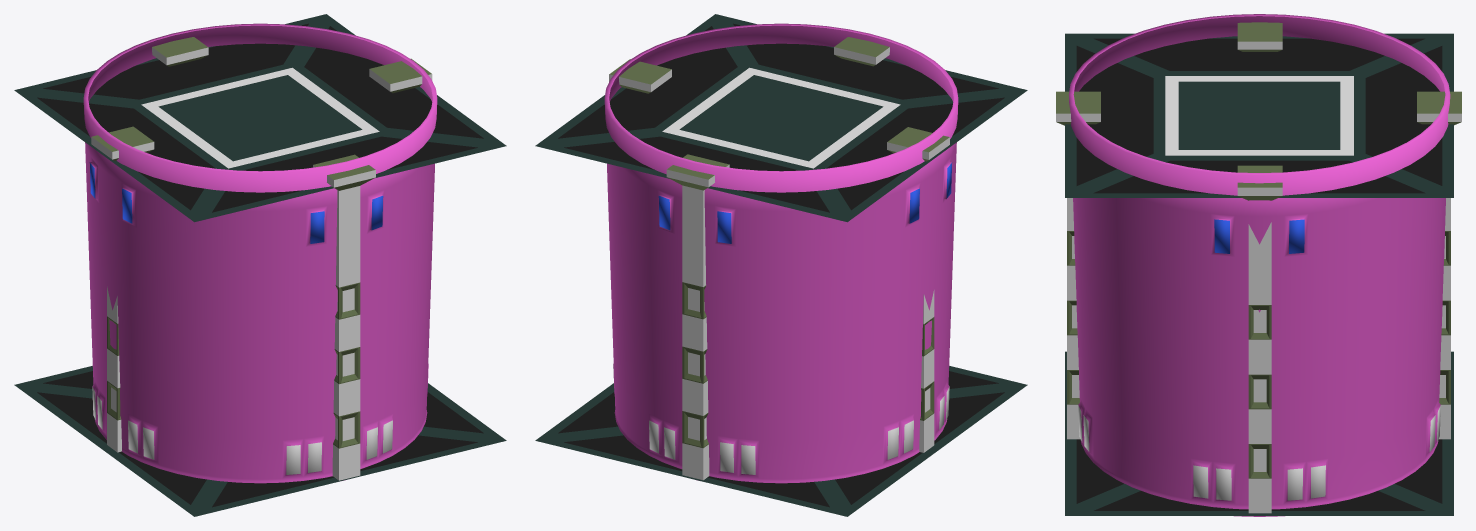
File: Salao.fbx
The picture shows the model from 3 angles, left to right: view 1: azimuth 30°, elevation 25°; view 2: azimuth 150°, elevation 25°; view 3: azimuth 270°, elevation 25°; orthographic projection. The views are drawn at different scales.
Visible parts, largest first — view 1: Cylinder, Plane.001, Plane, Cube.001, Cube.002, Cube.003, Cube; view 2: Cylinder, Plane.001, Plane, Cube, Cube.002, Cube.003, Cube.001; view 3: Cylinder, Plane.001, Plane, Cube.003, Cube.001, Cube, Cube.002.
Boxes of the visible parts, x1,y1,x2,y2 form: Cylinder: (83, 23, 437, 483); Plane.001: (14, 14, 506, 222); Plane: (14, 366, 506, 516); Cube.001: (313, 154, 375, 480); Cube.002: (91, 126, 154, 452); Cube.003: (369, 58, 432, 93); Cube: (152, 37, 208, 66); Cylinder: (604, 23, 958, 483); Plane.001: (535, 14, 1027, 222); Plane: (535, 366, 1027, 516); Cube: (666, 154, 729, 480); Cube.002: (887, 127, 949, 452); Cube.003: (609, 59, 671, 93); Cube.001: (834, 37, 889, 66); Cylinder: (1068, 14, 1450, 516); Plane.001: (1065, 33, 1453, 197); Plane: (1065, 351, 1453, 515); Cube.003: (1237, 165, 1282, 513); Cube.001: (1056, 91, 1100, 439); Cube: (1417, 91, 1461, 439); Cube.002: (1237, 22, 1282, 51).
Size of the model in its own units: 7352 by 7040 by 7492.
